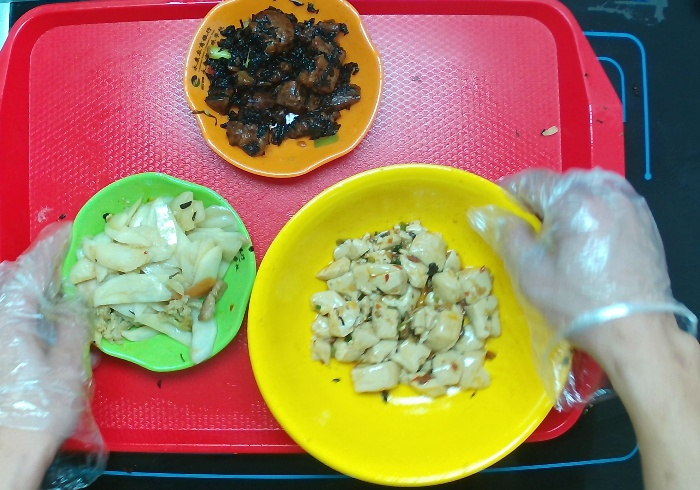YKMZ-Huang_Se_Tang_Wan: (250, 165, 570, 490)
YKMZ-Ju_Se_Ao_Bian_Wan: (182, 1, 382, 179)
YKMZ-Lv_Se_Ao_Bian_Wan: (57, 173, 257, 376)
